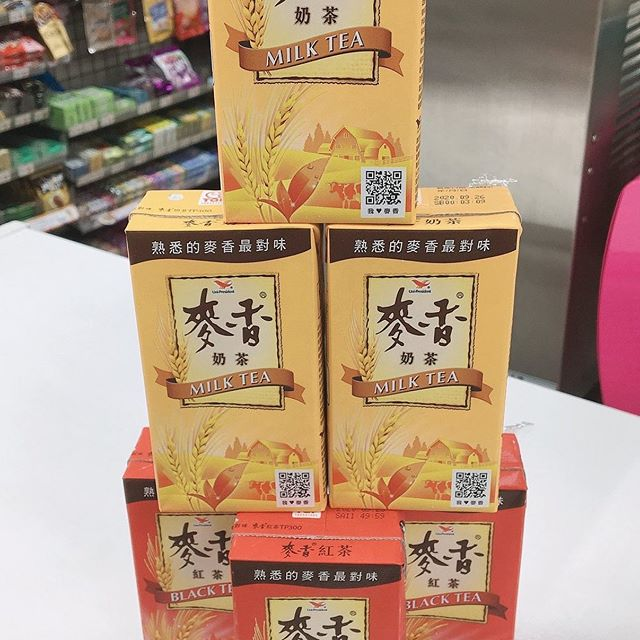milk tea: (126, 183, 330, 514), (331, 178, 522, 510), (215, 1, 423, 223)
